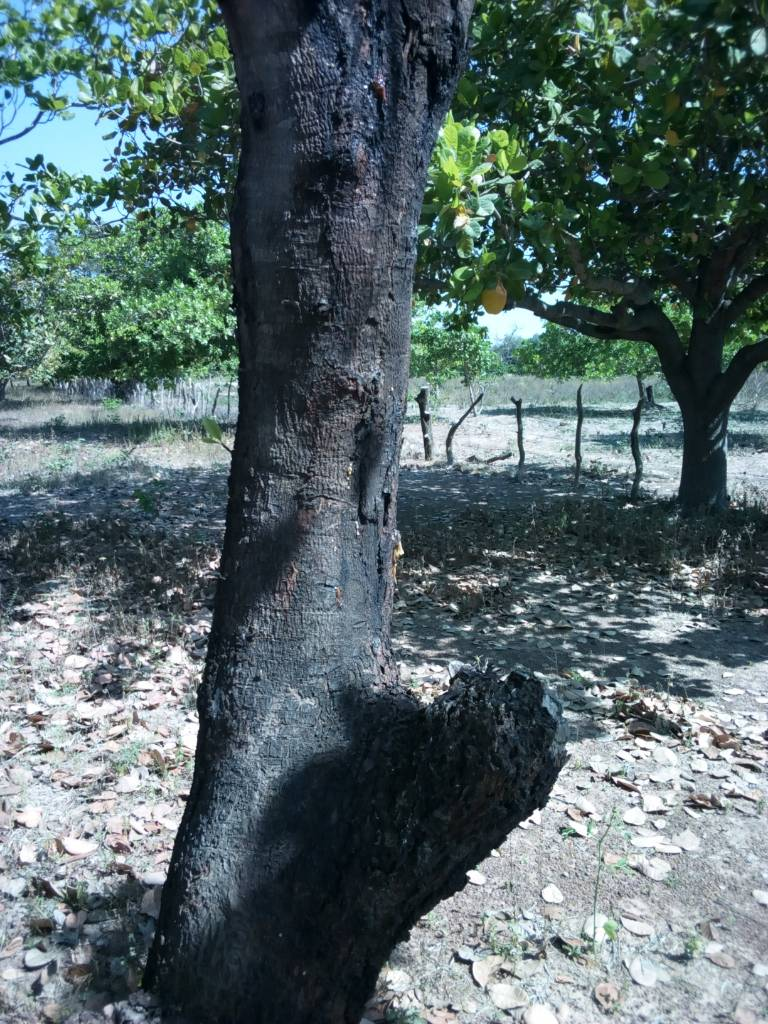Gommose: (330, 692, 510, 889)
